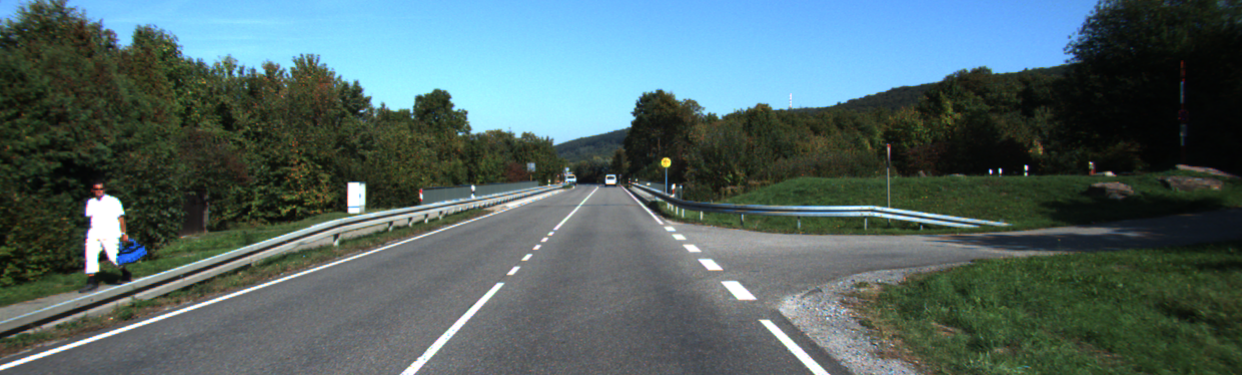person: (82, 176, 143, 288)
